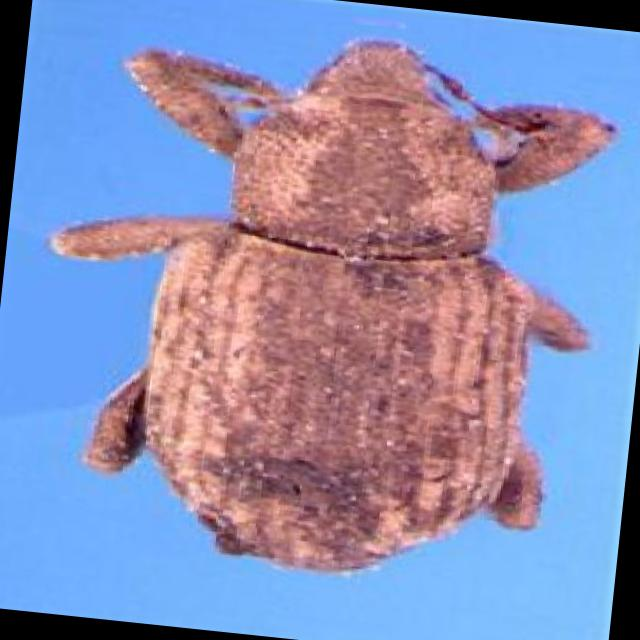rice-bug: (58, 12, 610, 598)
